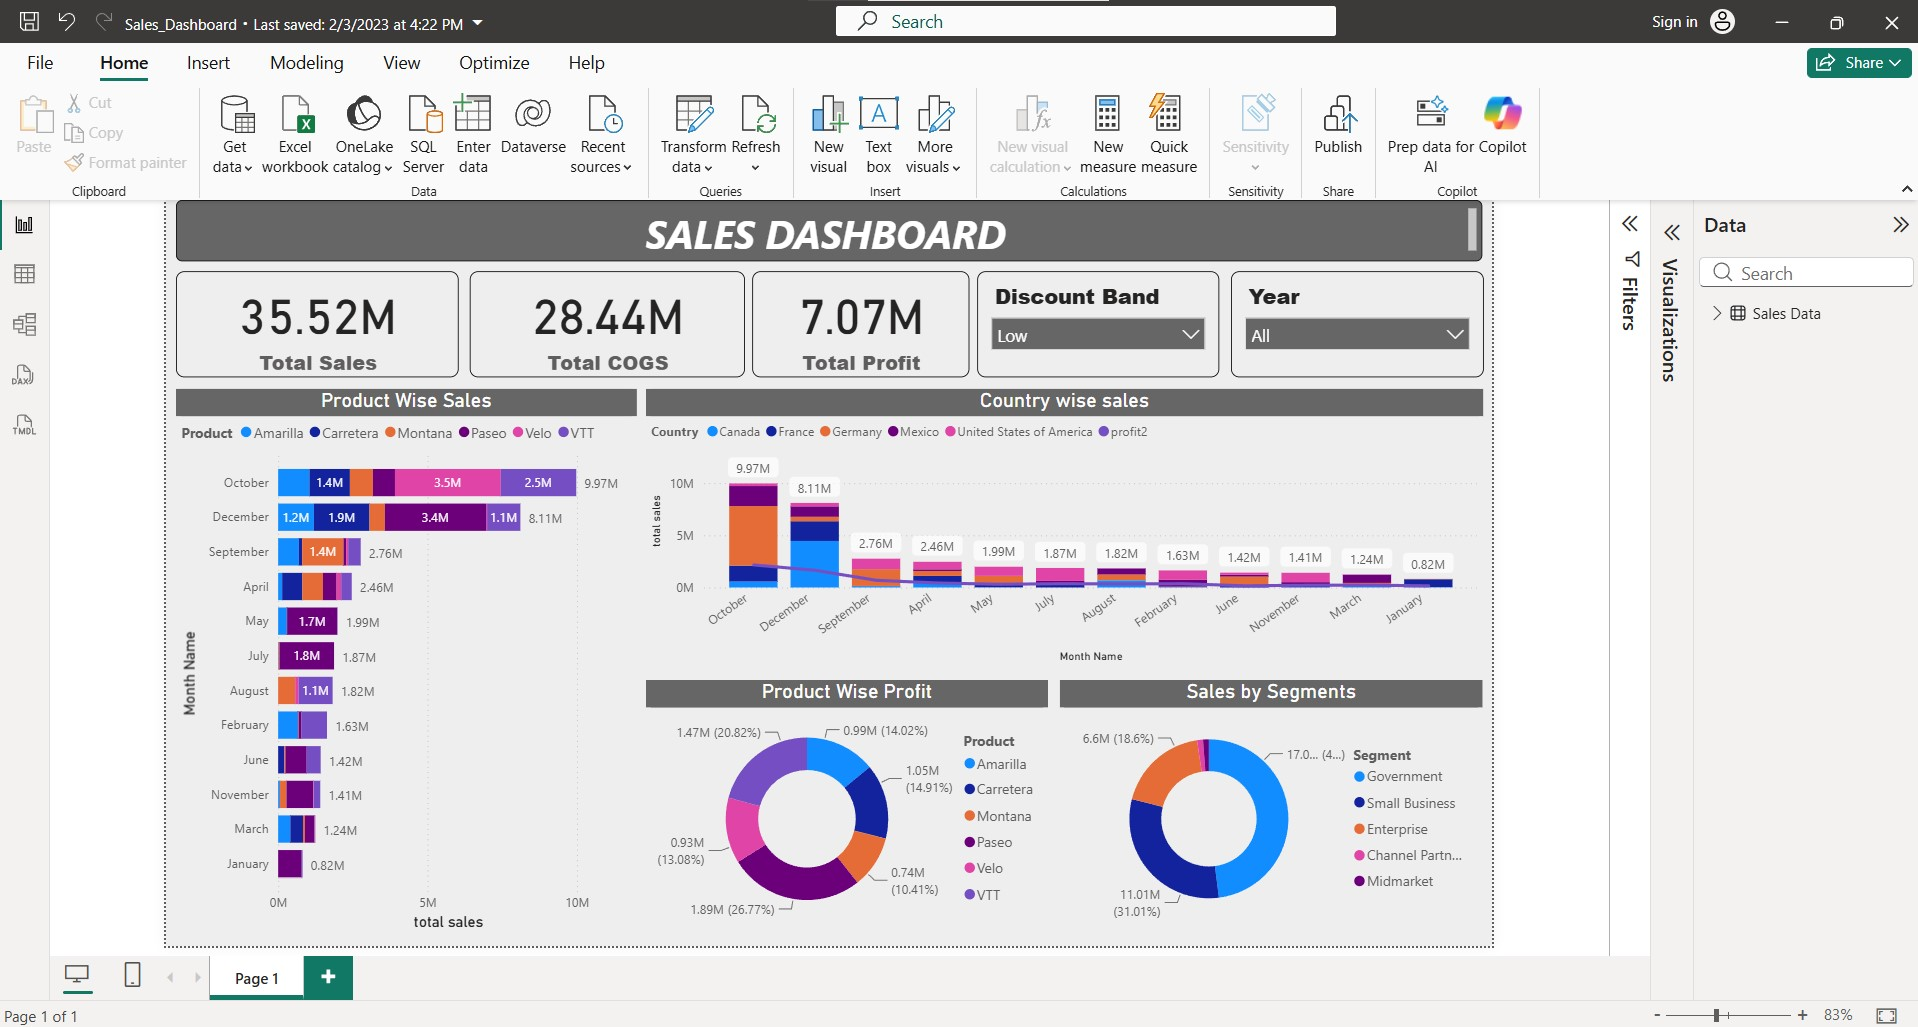

This screenshot's page, from the dashboard's own definition file:
{"tool":"powerbi","page":{"name":"Page 1","canvas":[1280,720],"ordinal":0},"visuals":[{"type":"card","fields":{"Values":["Sales Data.total sales"]},"box":[10.1,69.3,272.7,102.4],"z":0},{"type":"card","fields":{"Values":["Sales Data.Total COGS"]},"box":[292.9,69.3,265.5,102.4],"z":1000},{"type":"card","fields":{"Values":["Sales Data.total profit2"]},"box":[565.6,69.3,209.2,102.4],"z":2000},{"type":"barChart","title":"Product Wise Sales","fields":{"Y":["Sales Data.total sales"],"Series":["Sales Data.Product"],"Category":["Sales Data.Month Name"]},"box":[10.1,181.8,444.4,528.1],"z":3000},{"type":"lineStackedColumnComboChart","title":"Country wise sales","fields":{"Category":["Sales Data.Month Name"],"Y":["Sales Data.total sales"],"Series":["Sales Data.Country"],"Y2":["Sum(Sales Data.profit2)"]},"box":[463.2,181.8,808,269.8],"z":4000},{"type":"donutChart","title":"Sales by Segments","fields":{"Category":["Sales Data.Segment"],"Y":["Sales Data.total sales"]},"box":[862.8,463.2,408.3,246.7],"z":5000},{"type":"slicer","fields":{"Values":["Sales Data.Discount Band"]},"box":[783.5,69.3,233.7,102.4],"z":6000},{"type":"slicer","fields":{"Values":["Sales Data.Year"]},"box":[1027.3,69.3,243.8,102.4],"z":7000},{"type":"textbox","box":[10.1,0,1261.1,59.2],"z":8000},{"type":"donutChart","title":"Product Wise Profit","fields":{"Y":["Sum(Sales Data.profit2)"],"Series":["Sales Data.Product"]},"box":[463.2,463.2,388.1,246.7],"z":8001}]}

Visuals, with their boxes on the page's 1280x720 design canvas (x1, y1, x2, y2). These are canvas units, not pixel positions in the 1918x1027 screenshot, which may show the page scaled, cropped or inside an application window:
card - Sales Data.total sales: {"left": 10, "top": 69, "right": 283, "bottom": 172}
card - Sales Data.Total COGS: {"left": 293, "top": 69, "right": 558, "bottom": 172}
card - Sales Data.total profit2: {"left": 566, "top": 69, "right": 775, "bottom": 172}
"Product Wise Sales" barChart: {"left": 10, "top": 182, "right": 454, "bottom": 710}
"Country wise sales" lineStackedColumnComboChart: {"left": 463, "top": 182, "right": 1271, "bottom": 452}
"Sales by Segments" donutChart: {"left": 863, "top": 463, "right": 1271, "bottom": 710}
slicer - Sales Data.Discount Band: {"left": 784, "top": 69, "right": 1017, "bottom": 172}
slicer - Sales Data.Year: {"left": 1027, "top": 69, "right": 1271, "bottom": 172}
textbox: {"left": 10, "top": 0, "right": 1271, "bottom": 59}
"Product Wise Profit" donutChart: {"left": 463, "top": 463, "right": 851, "bottom": 710}
